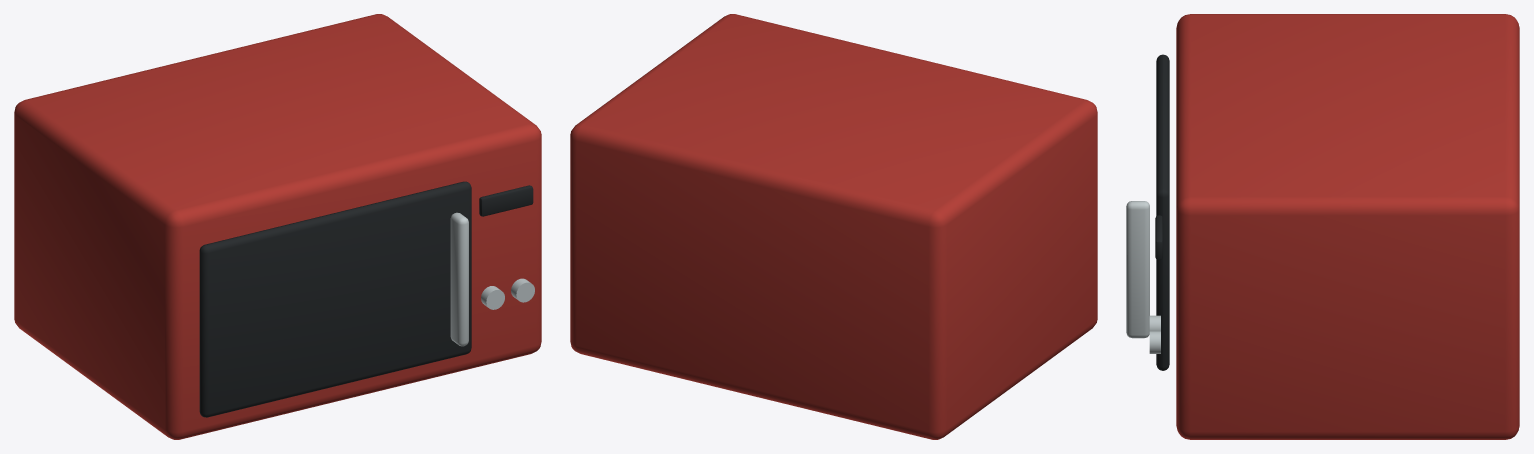
The model's file is microondas_retro_base.glb.
3 views of the same model, side by side, from view 1: azimuth 30°, elevation 25°; view 2: azimuth 150°, elevation 25°; view 3: azimuth 270°, elevation 25° (orthographic). The views are drawn at different scales.
Visible parts, largest first — view 1: microondas_retro_base; view 2: microondas_retro_base; view 3: microondas_retro_base.
Boxes of the visible parts, x1,y1,x2,y2 form: microondas_retro_base: (14,14,541,439); microondas_retro_base: (570,14,1097,439); microondas_retro_base: (1126,14,1519,439).
Size of the model in its own units: 0.48 by 0.28 by 0.4125.
